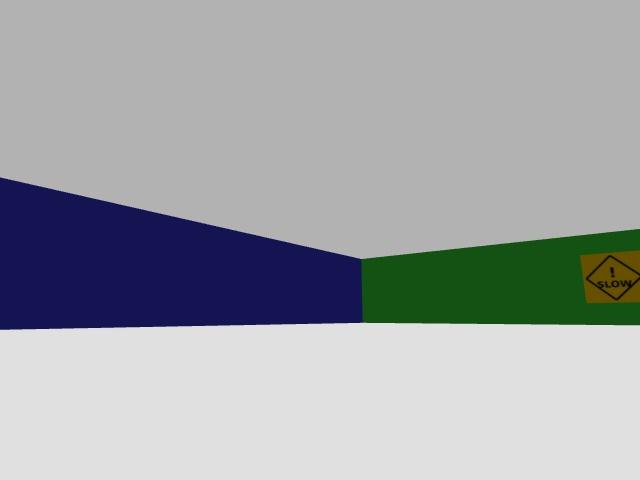slow: (582, 250, 639, 302)
